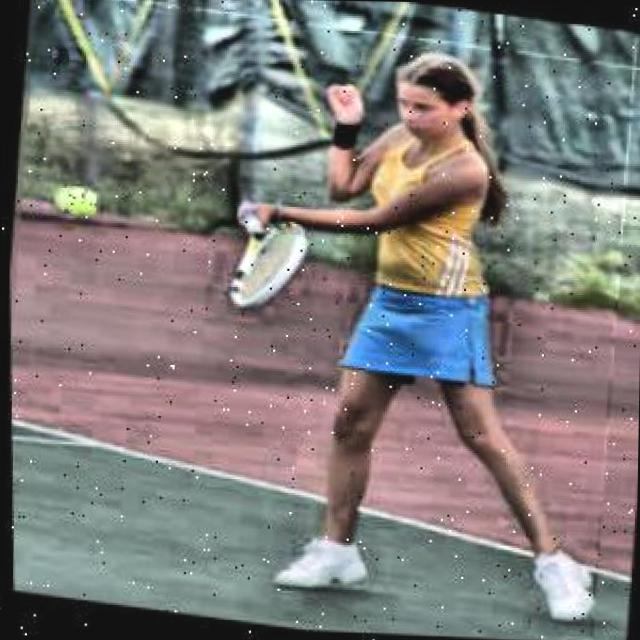Tennis Ball: (58, 187, 96, 220)
